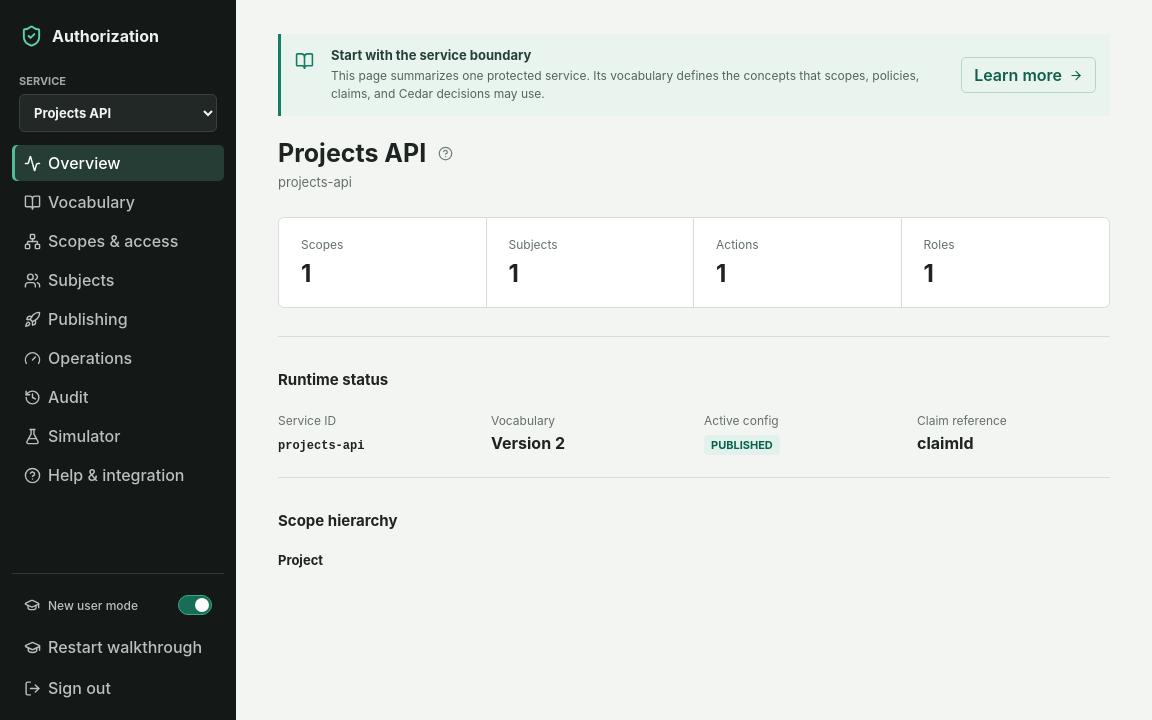
Scenario: management UI › shows operational projection and approval status
This screenshot has width=1152, height=720.
Expected: the heading "Projects API" is shown, [278,138,426,168]
Click the button "Operations" at (118, 358), box [12,340,224,376]
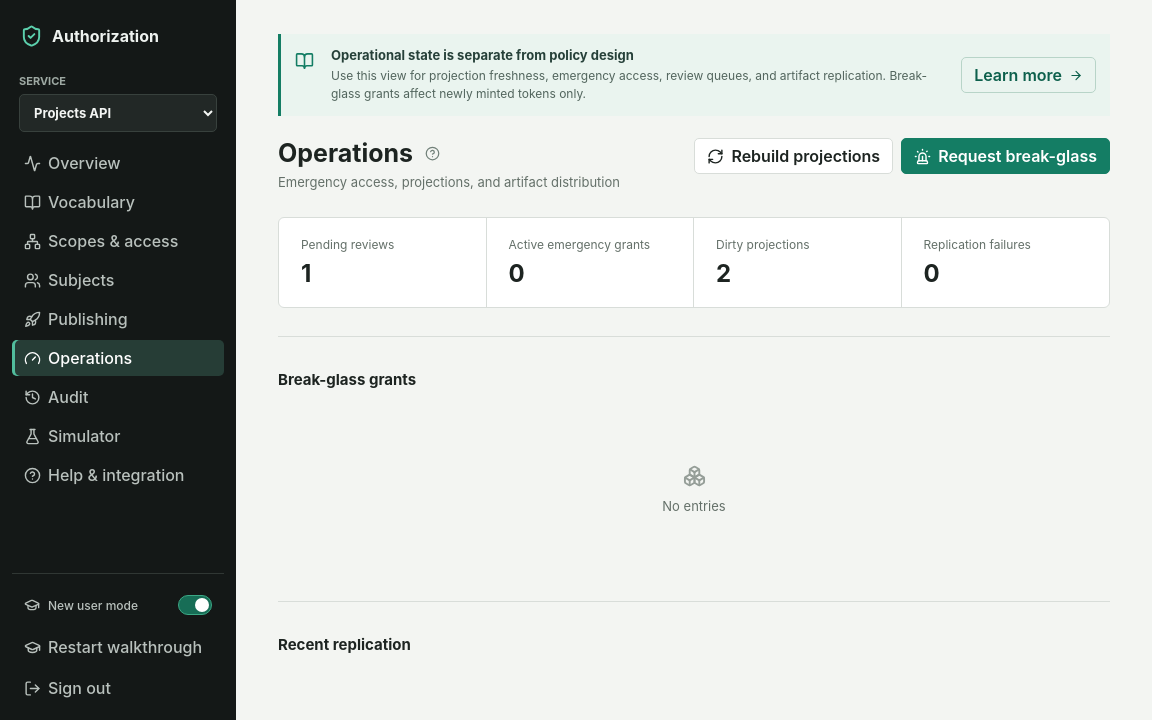
Now the heading "Operations" is shown, box [278,138,413,168]
Now the heading "Break-glass grants" is shown, box [278,370,416,388]
